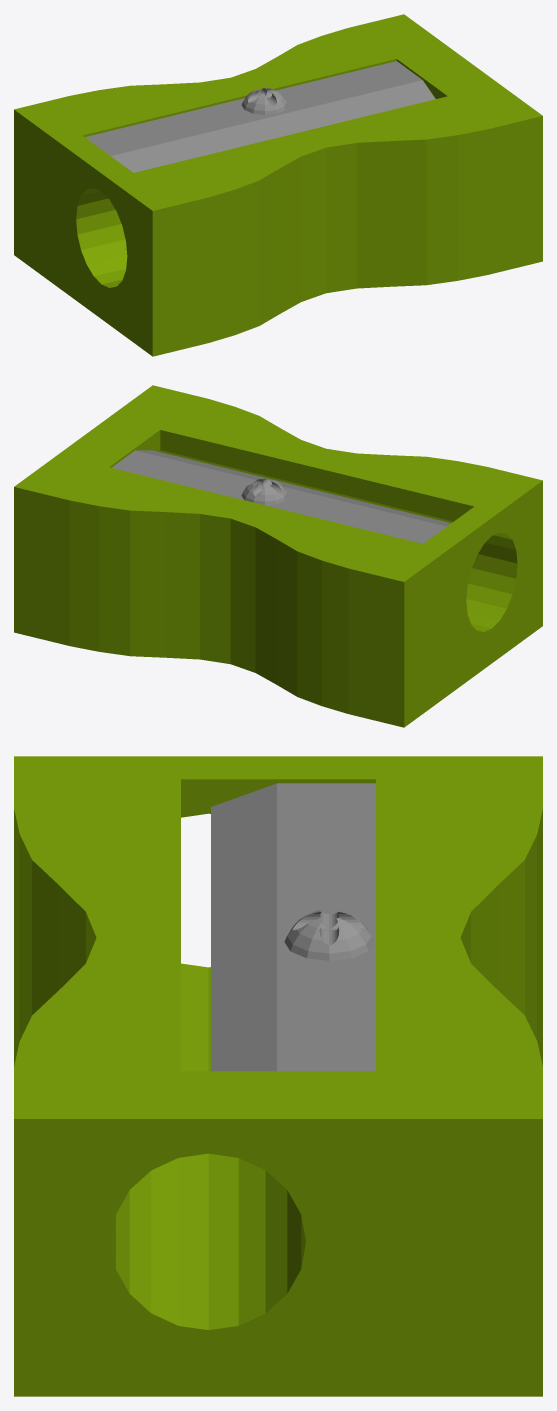
File: sharpener.fbx
3 renders of one model, top to bottom at view 1: azimuth 30°, elevation 25°; view 2: azimuth 150°, elevation 25°; view 3: azimuth 270°, elevation 25°, orthographic. The views are drawn at different scales.
Parts seen in each view (by area): view 1: sharpener:pCube6; view 2: sharpener:pCube6; view 3: sharpener:pCube6.
Part boxes in pixels (x1,y1,x2,y2): sharpener:pCube6: (14, 14, 542, 356); sharpener:pCube6: (14, 385, 542, 727); sharpener:pCube6: (14, 756, 542, 1396).
Bounding box in the file's own units: 7.4 × 2.86 × 4.56.
